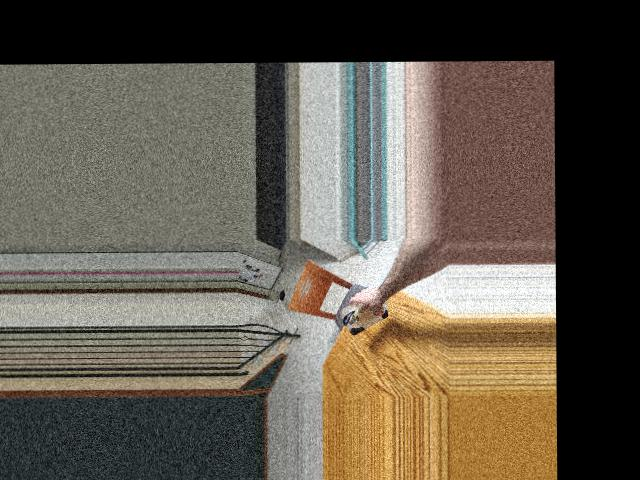cheese: (340, 288, 392, 335)
